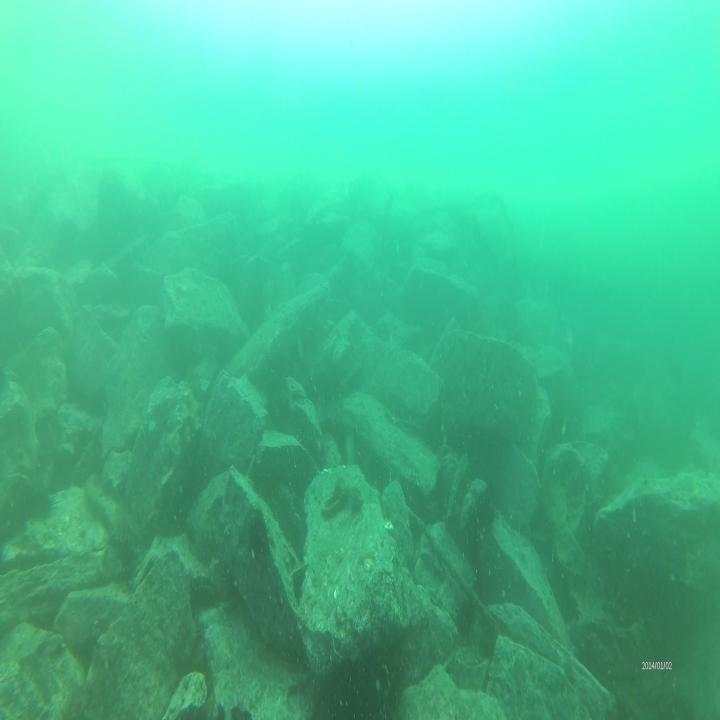echinus: (244, 526, 272, 565)
